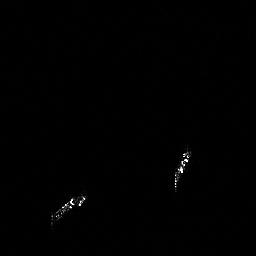ship: (46, 193, 87, 227), (173, 149, 193, 192)
